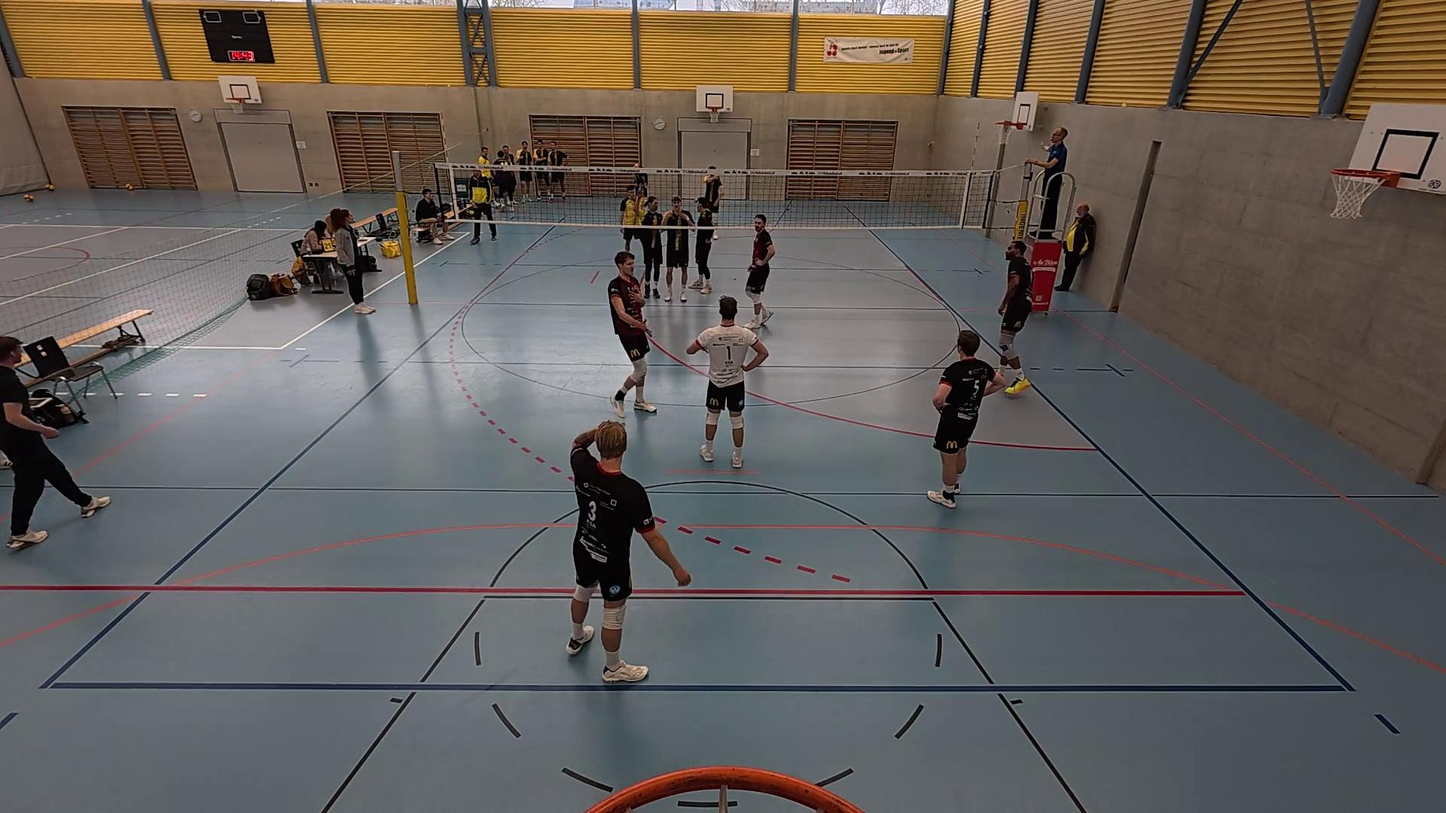Player: (566, 422, 691, 683), (685, 297, 767, 467), (929, 330, 1002, 508), (606, 250, 659, 418), (994, 227, 1036, 394), (660, 196, 694, 301), (743, 215, 774, 329), (636, 193, 666, 301), (688, 199, 716, 296), (619, 187, 648, 265), (697, 163, 724, 225), (633, 164, 648, 205)
